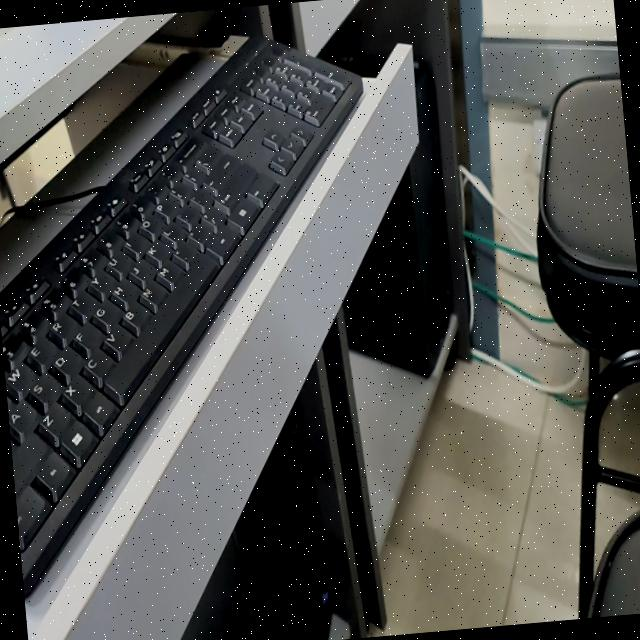Chair: (535, 72, 640, 357), (584, 508, 640, 618)
Cpu: (179, 397, 331, 640), (342, 49, 450, 376)
Keyboard: (0, 36, 361, 596)
